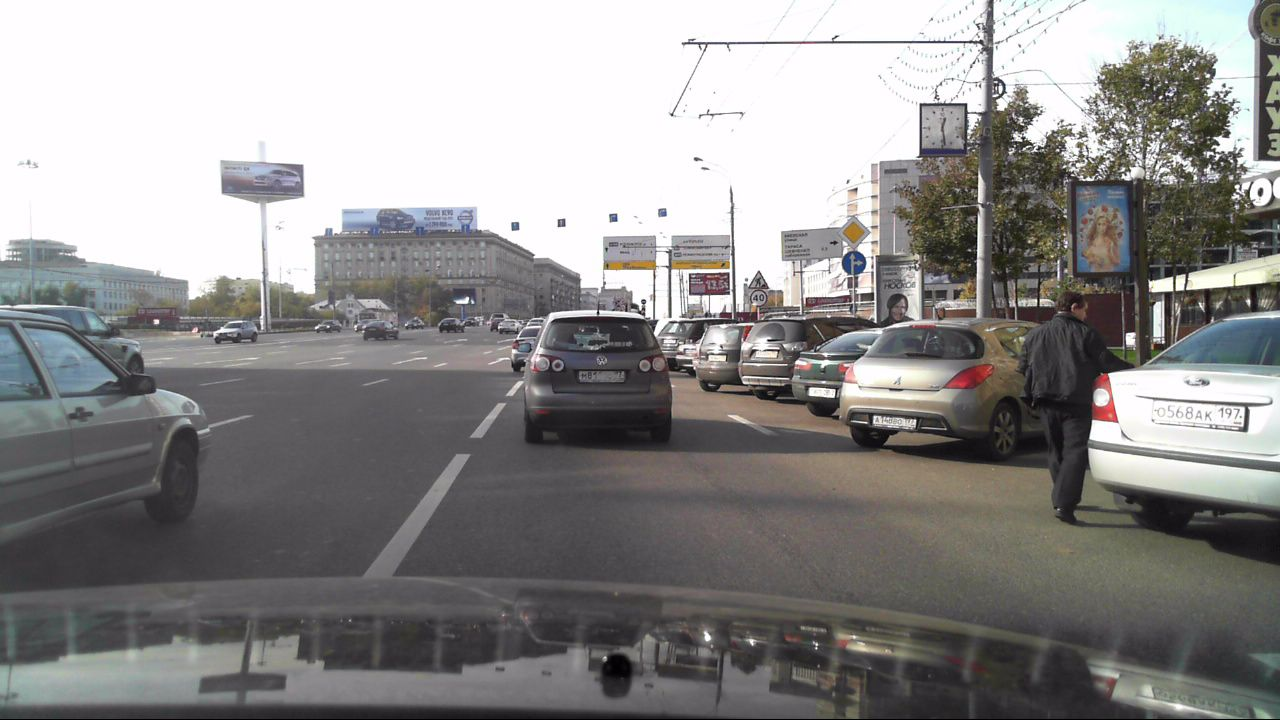speed_warning_40: (748, 289, 767, 307)
